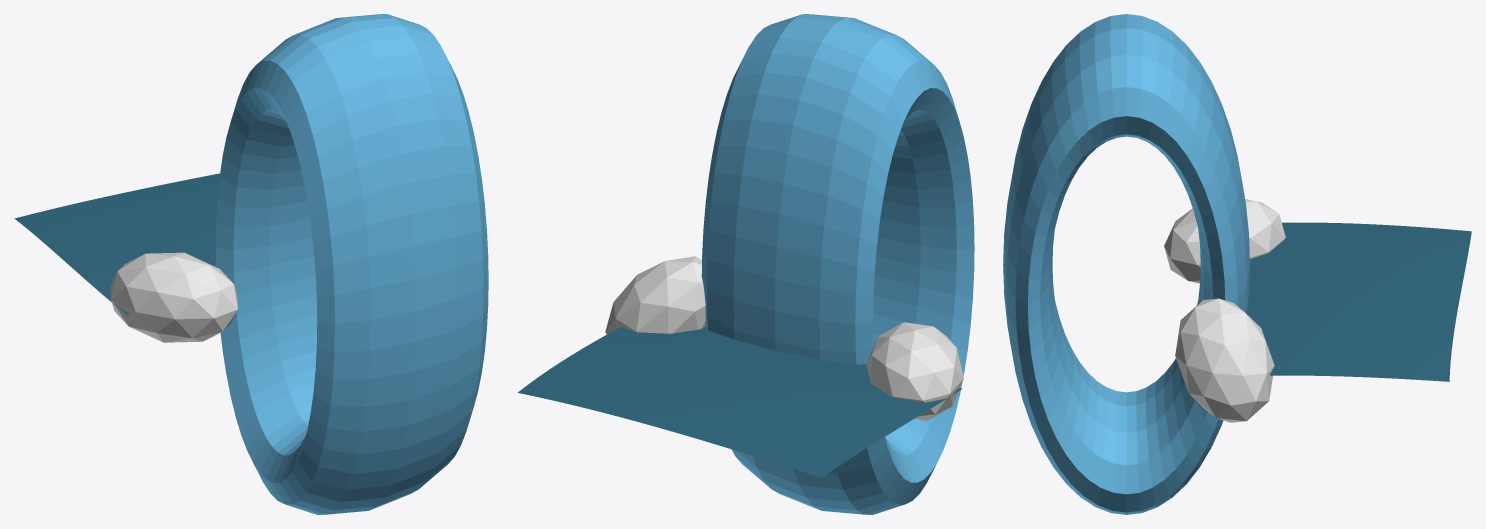
Rendered from waterfall.fbx.
3 views of the same model, side by side, from view 1: azimuth 30°, elevation 25°; view 2: azimuth 150°, elevation 25°; view 3: azimuth 270°, elevation 25° (orthographic). The views are drawn at different scales.
Visible parts, largest first — view 1: Torus, SurfPatch, Icosphere.001; view 2: Torus, SurfPatch, Icosphere.001, Icosphere; view 3: Torus, SurfPatch, Icosphere, Icosphere.001.
Boxes of the visible parts, x1,y1,x2,y2 form: Torus: (215,14,488,514); SurfPatch: (14,173,219,315); Icosphere.001: (110,252,237,342); Torus: (701,14,974,514); SurfPatch: (517,327,962,477); Icosphere.001: (866,322,963,420); Icosphere: (605,256,705,334); Torus: (1003,14,1249,514); SurfPatch: (1246,222,1471,381); Icosphere: (1175,298,1274,422); Icosphere.001: (1164,199,1285,283).
Bounding box in the file's own units: 1053 × 1401 × 1258.
